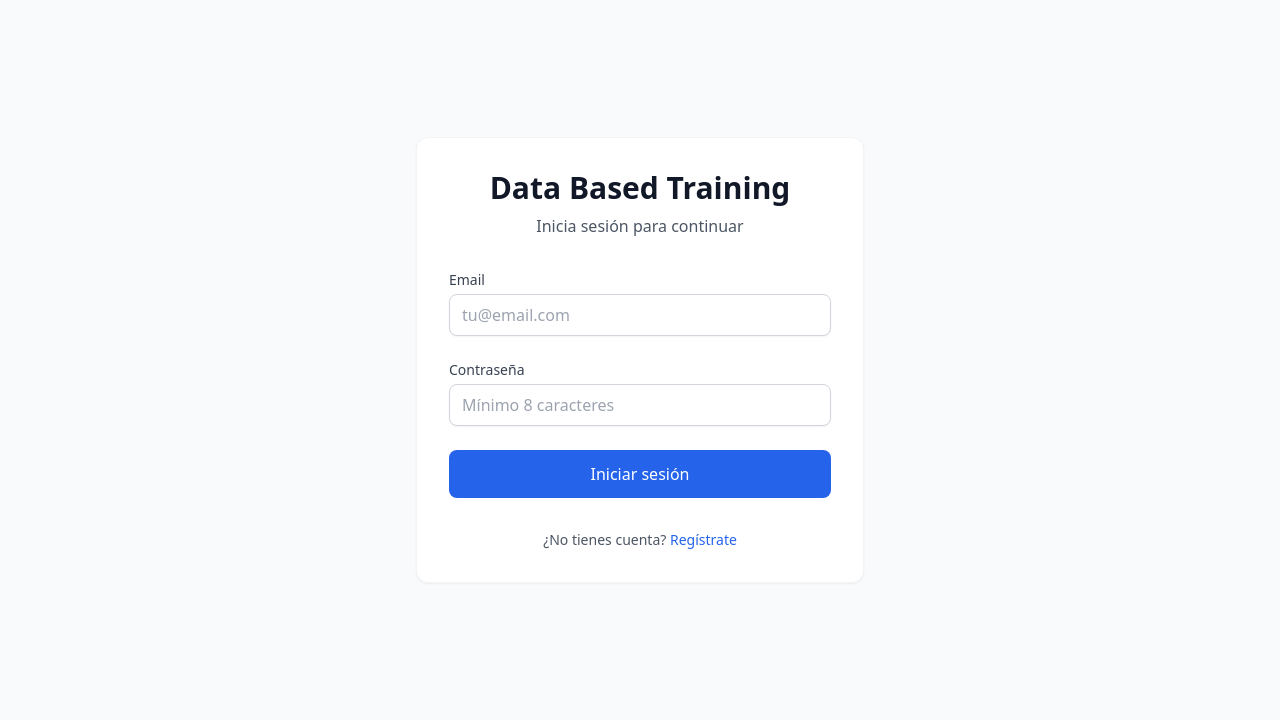
Scenario: LoginRegister › shows error from API when register fails (email already exists)
This screenshot has width=1280, height=720.
Click the button "Regístrate" at (703, 540), box [670,530,737,550]
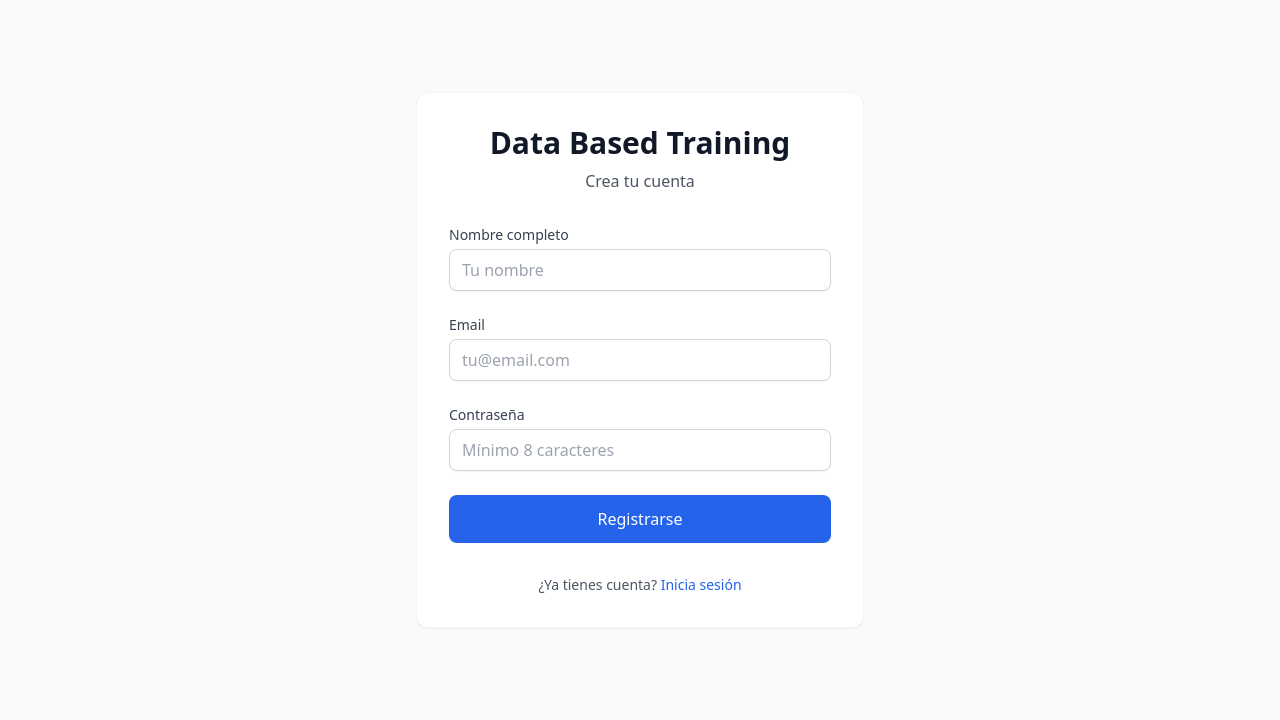
Type "Test User" into the field labelled "Nombre completo" at (640, 270), box [449,249,831,291]
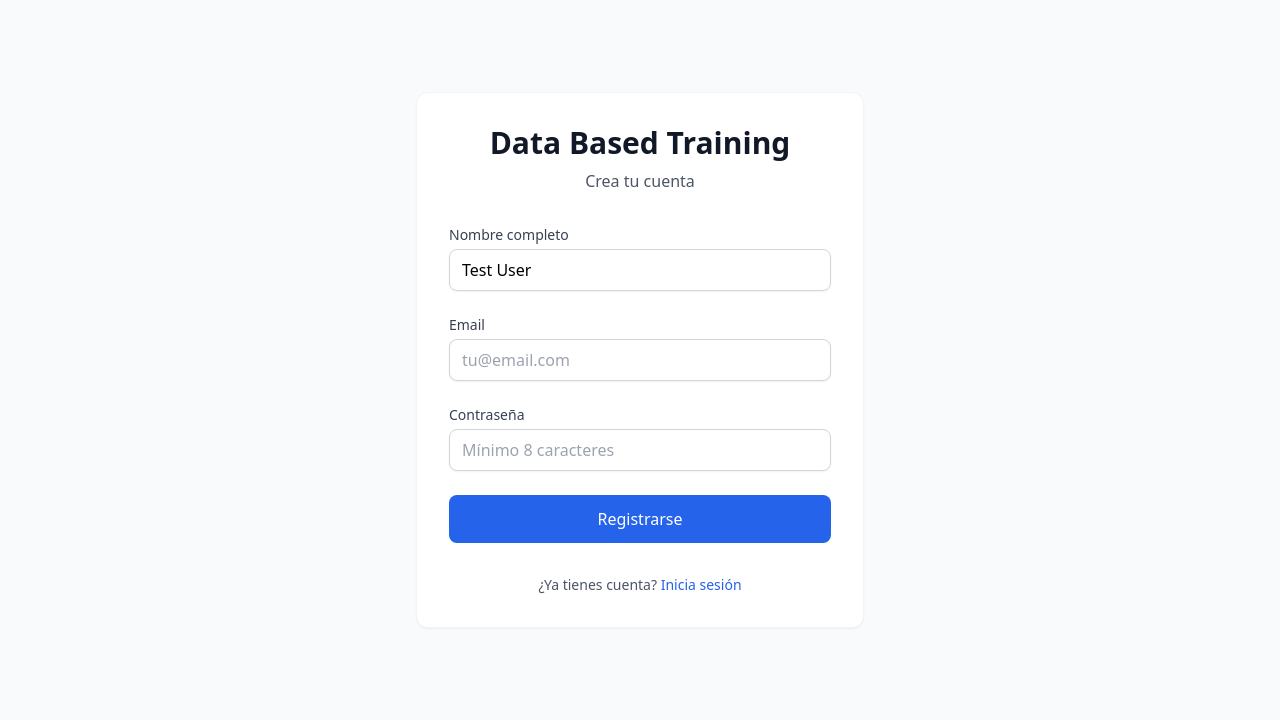
Type "test@example.com" into the field labelled "Email" at (640, 360), box [449,339,831,381]
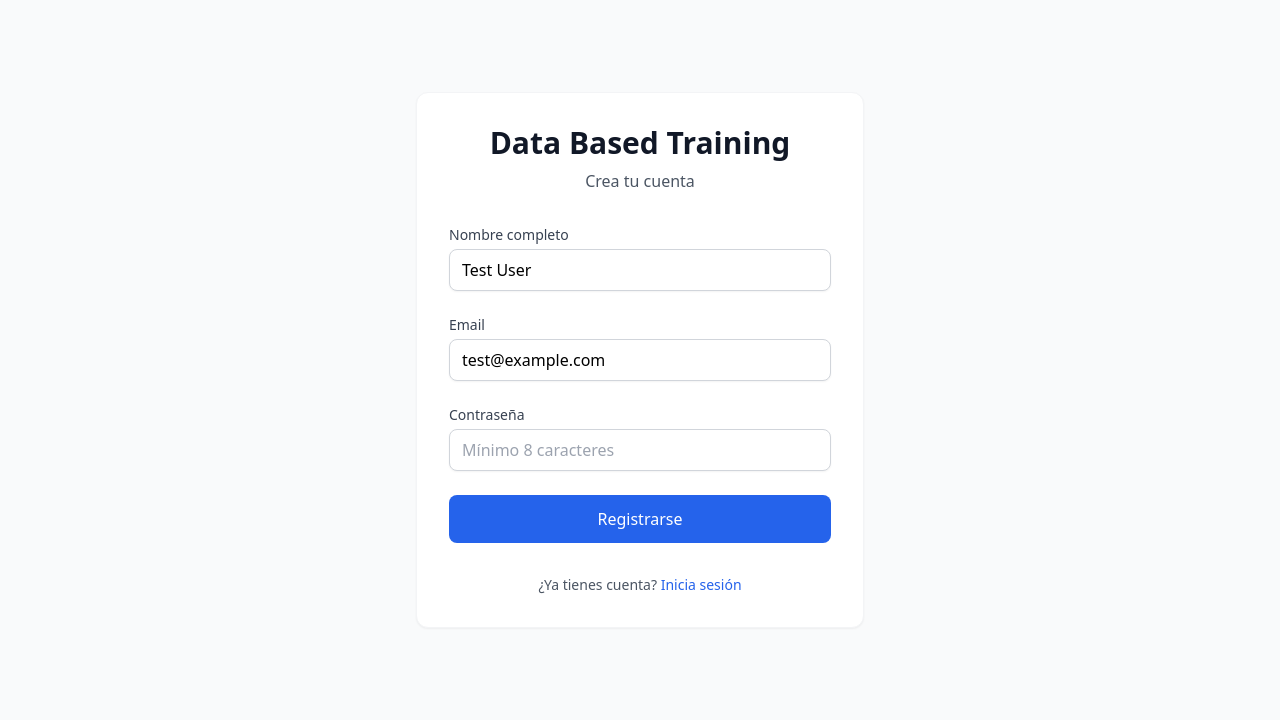
Type "password123" into the password field labelled "Contraseña" at (640, 450), box [449,429,831,471]
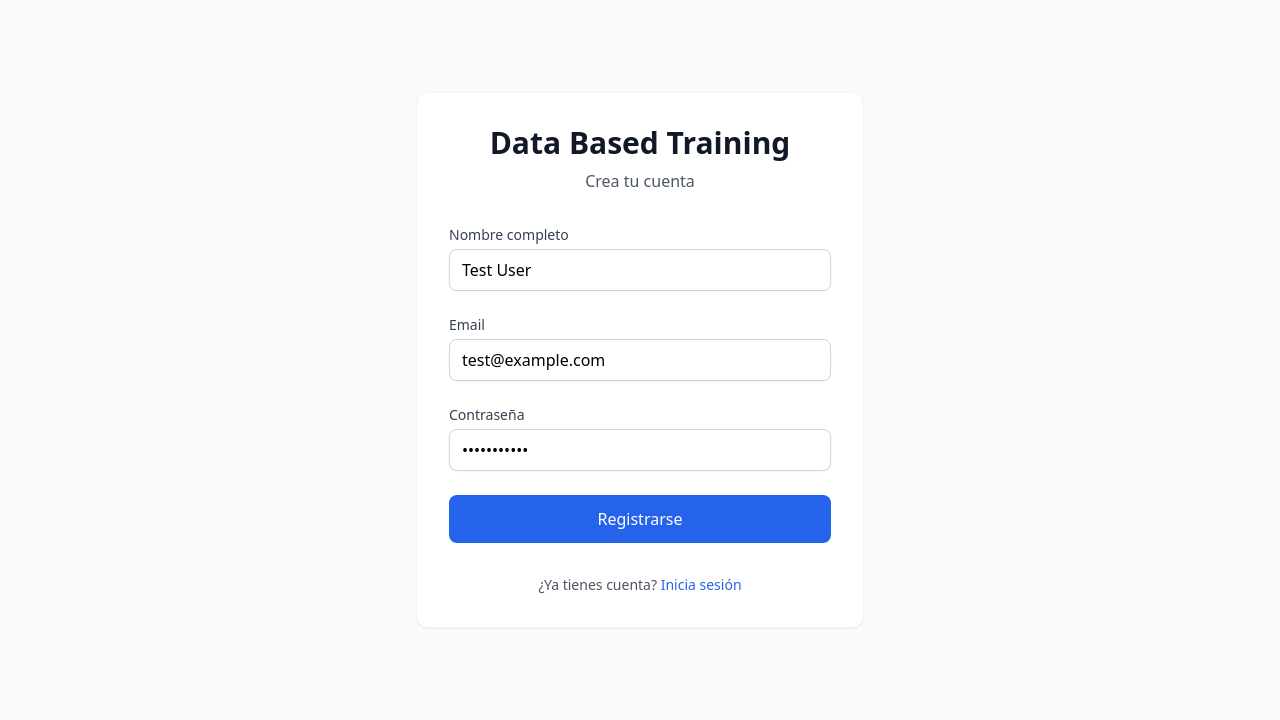
Submit the form with test id "login-form", box [449,225,831,543]
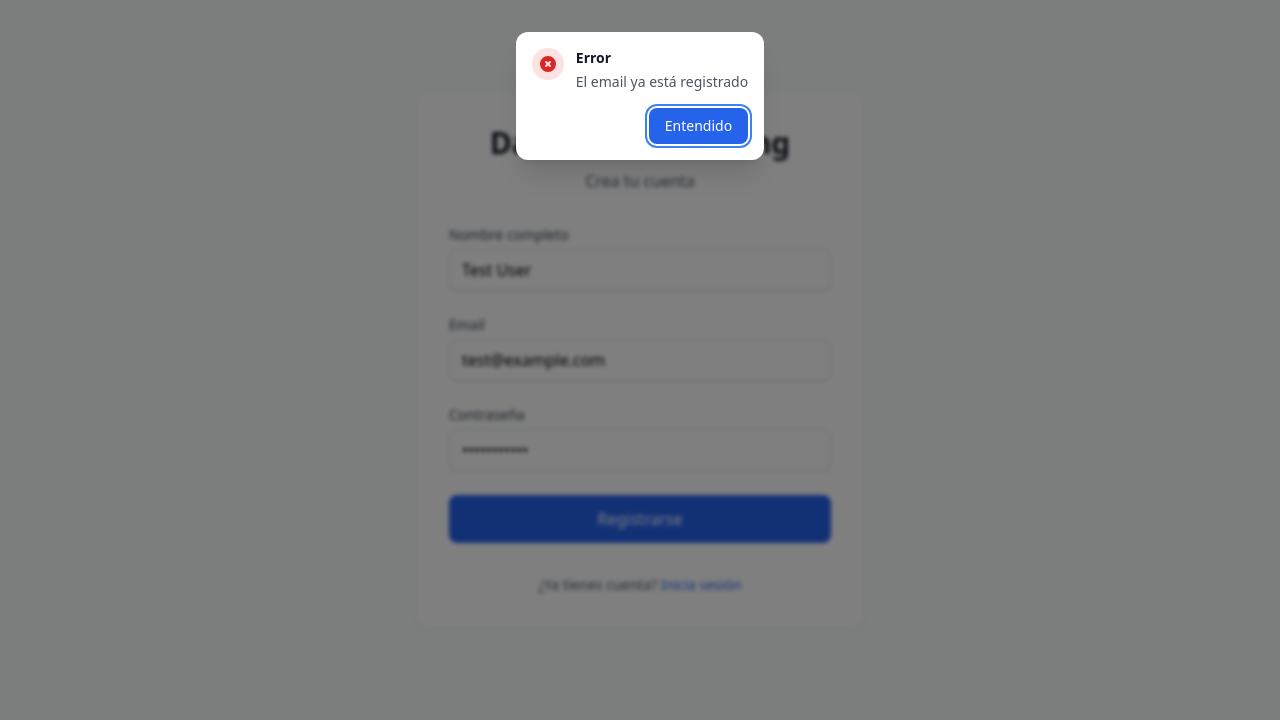
Check: the text "El email ya está registrado" is shown, box [576,72,748,92]
